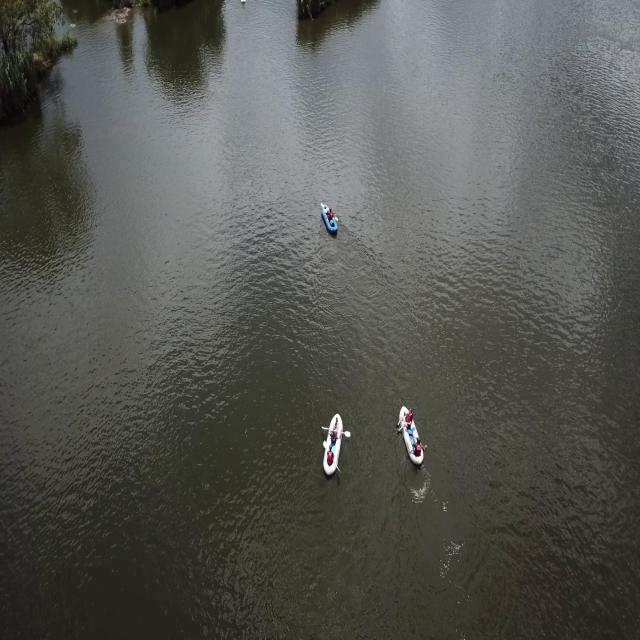kayak: (316, 409, 351, 481), (397, 403, 428, 474), (322, 200, 339, 242)
